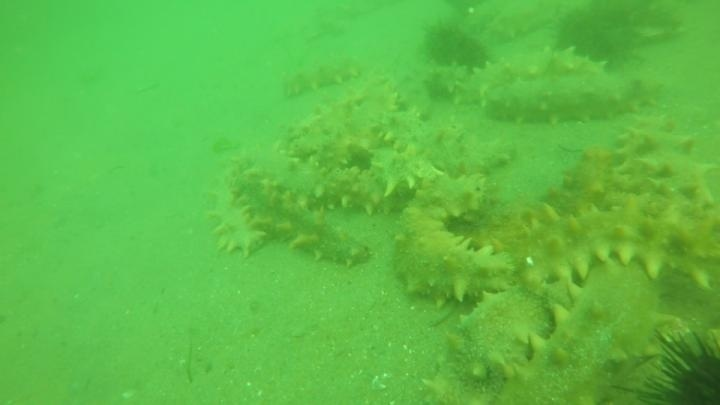echinus: (637, 322, 719, 403), (420, 19, 492, 74)
holothurian: (495, 263, 679, 405), (511, 197, 718, 295), (420, 273, 577, 401), (611, 117, 719, 288), (390, 187, 516, 310), (229, 169, 376, 273), (480, 62, 665, 130), (369, 104, 511, 180), (283, 71, 399, 163), (452, 40, 609, 107), (204, 156, 269, 260), (540, 141, 621, 219), (362, 142, 445, 200), (278, 53, 368, 100), (402, 54, 492, 101), (480, 1, 562, 46), (307, 135, 376, 176)
scallop: (635, 320, 720, 403)
